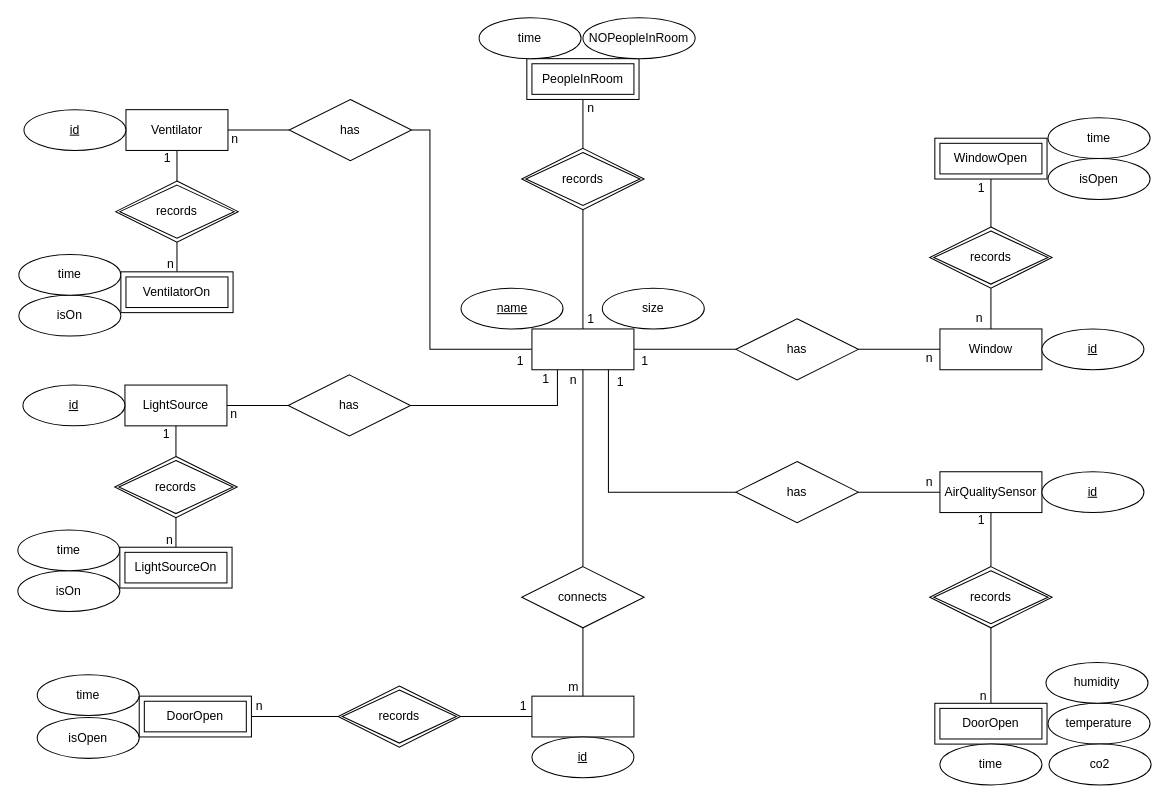
This 1169x803 diagram has some shape labels left out. The shapes that lost their labels are listed below. From the top down, each one's centre as x and y in pixels, then its label:
At point 582,349: "Room".
At point 582,716: "Door".
